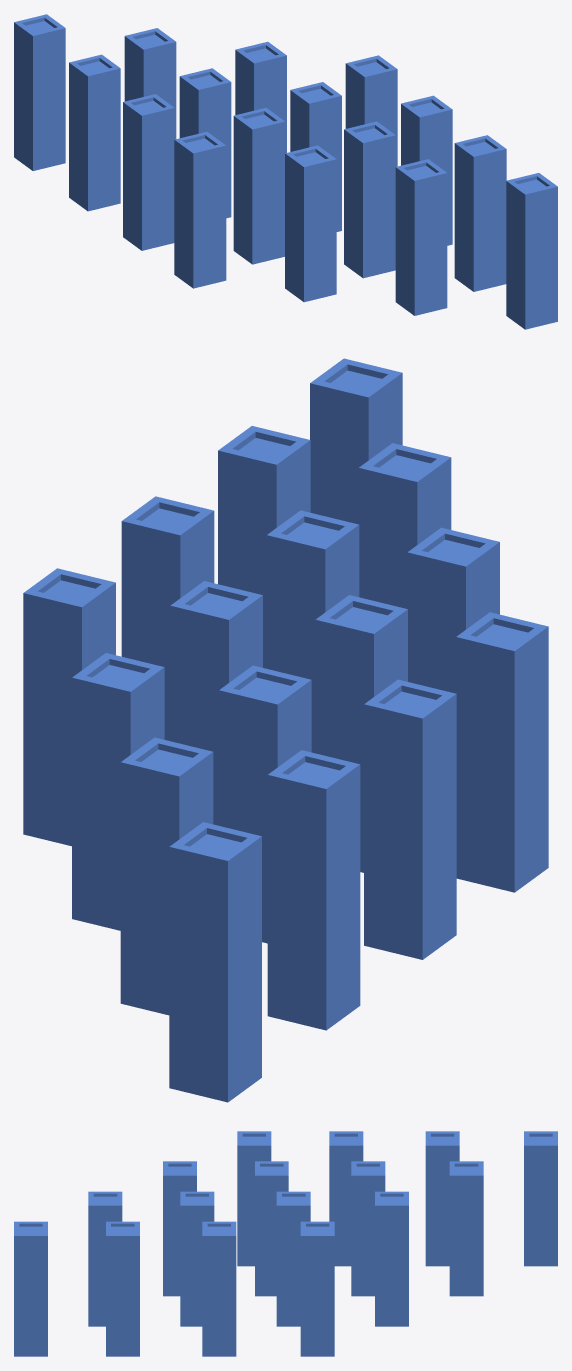
File: multiple Space.fbx
The picture shows the model from 3 angles, top to bottom: view 1: azimuth 30°, elevation 25°; view 2: azimuth 150°, elevation 25°; view 3: azimuth 270°, elevation 25°; orthographic projection. The views are drawn at different scales.
Parts seen in each view (by area): view 1: Cube.004; view 2: Cube.004; view 3: Cube.004.
Boxes of the visible parts, x1,y1,x2,y2 form: Cube.004: [14, 14, 557, 329]; Cube.004: [23, 358, 548, 1102]; Cube.004: [14, 1131, 557, 1356].
Size of the model in its own units: 71.87 by 38.73 by 158.
